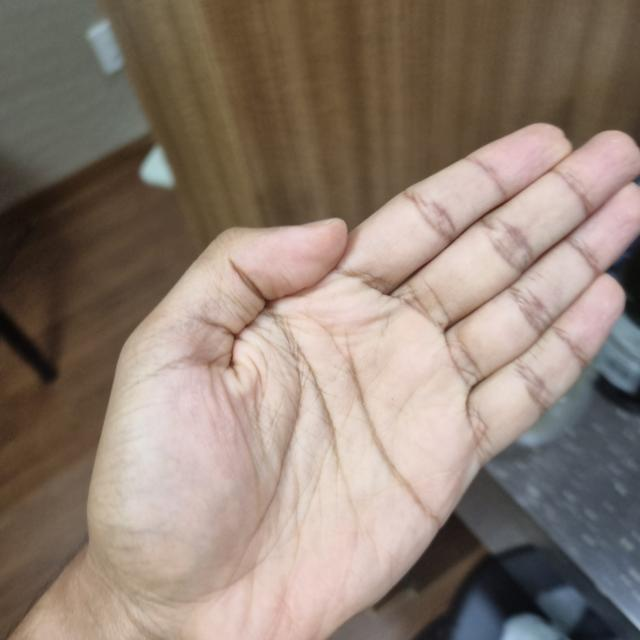Paper: (95, 123, 638, 639)
